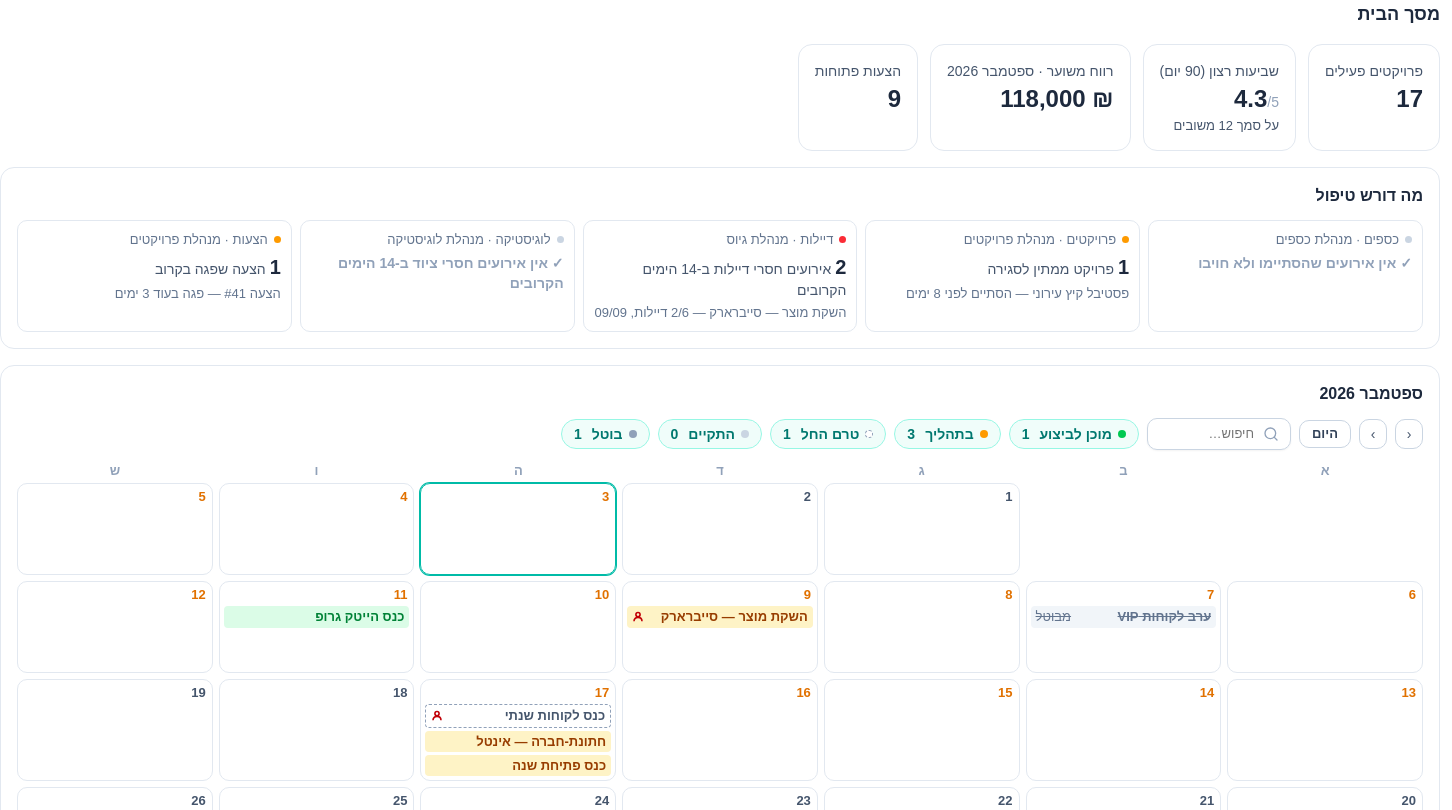
it: DashboardPage — לוח החודש › כיבוי צ׳יפ-הסינון "בתהליך" מסתיר רק את האירועים שבתהליך
Expected: the element with test id "kpi-active" is shown, [1308,44,1440,151]
Click the button with test id "dashboard-filter-in_progress": point(947, 434) [894,419,1001,449]
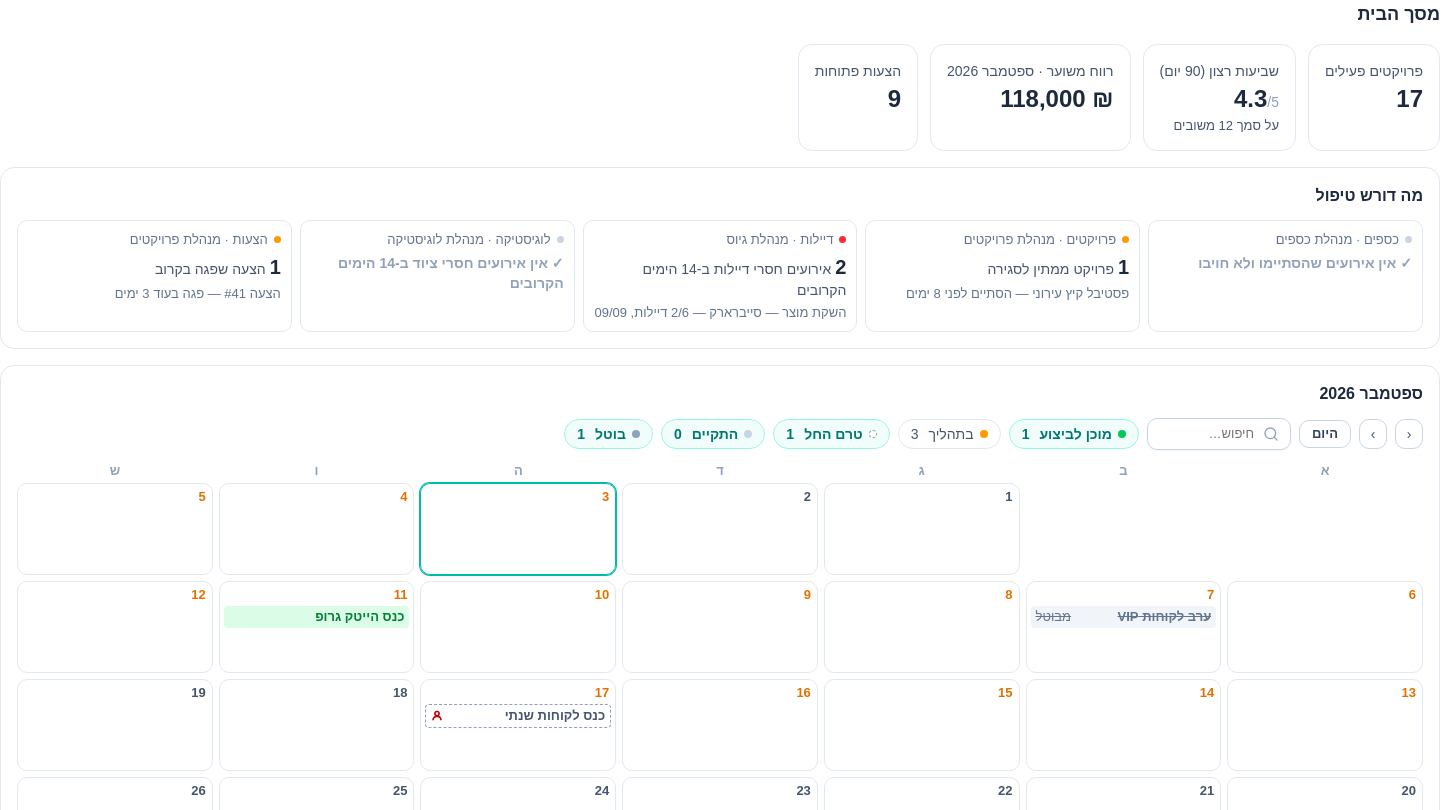
Expected: the link with test id "dashboard-chip-202" is shown, [224,606,409,628]
Now the link with test id "dashboard-chip-201" is gone
